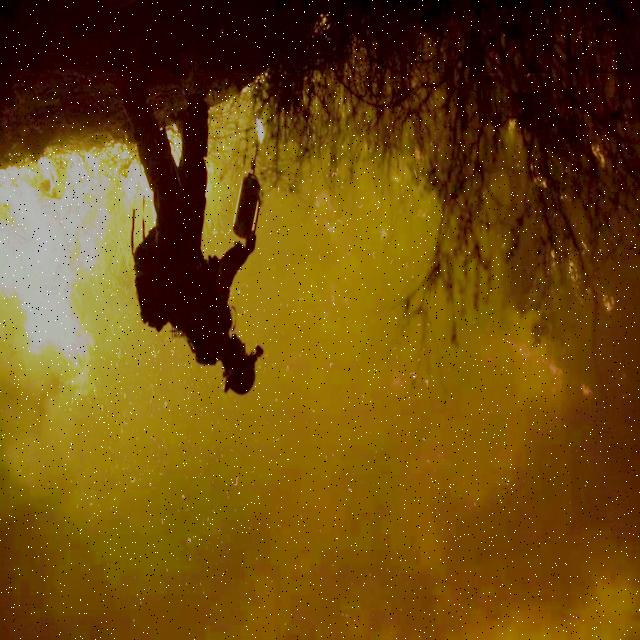api: (2, 161, 104, 391)
asap: (256, 403, 630, 629), (7, 394, 98, 526)
